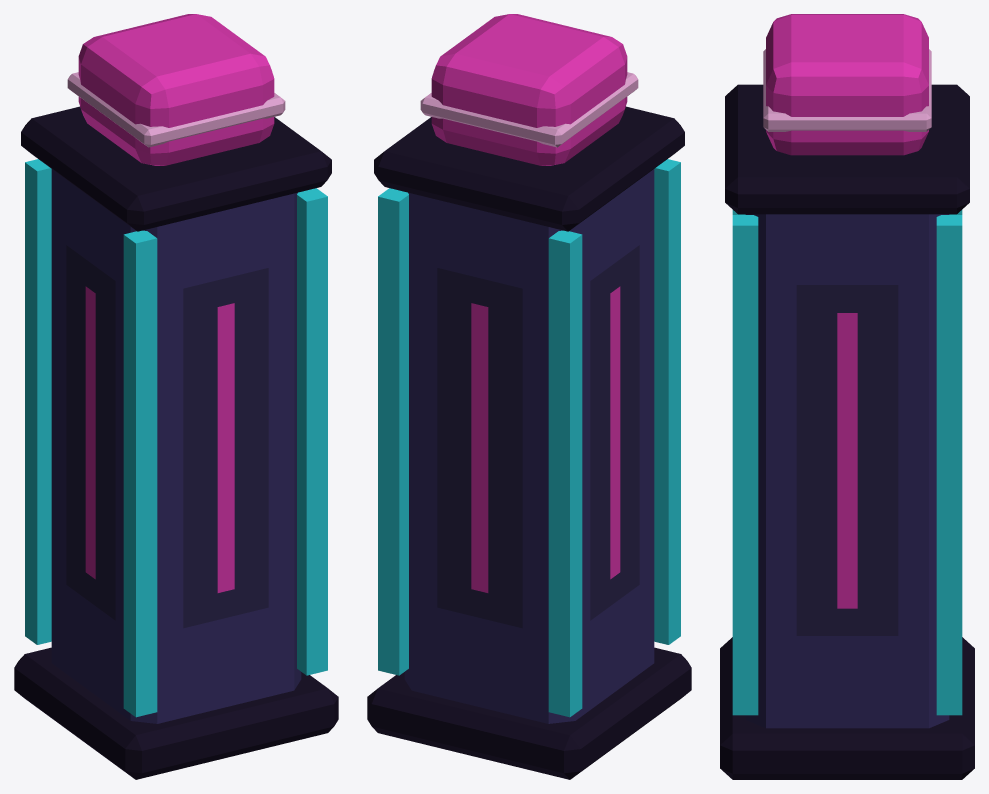
File: neon-post.glb
The picture shows the model from 3 angles, left to right: view 1: azimuth 30°, elevation 25°; view 2: azimuth 150°, elevation 25°; view 3: azimuth 270°, elevation 25°; orthographic projection. The views are drawn at different scales.
Visible parts, largest first — view 1: neon-post; view 2: neon-post; view 3: neon-post.
Boxes of the visible parts, x1,y1,x2,y2 form: neon-post: (14,14,338,779); neon-post: (367,14,691,779); neon-post: (720,14,974,779).
Size of the model in its own units: 0.5 by 1.5 by 0.5.
